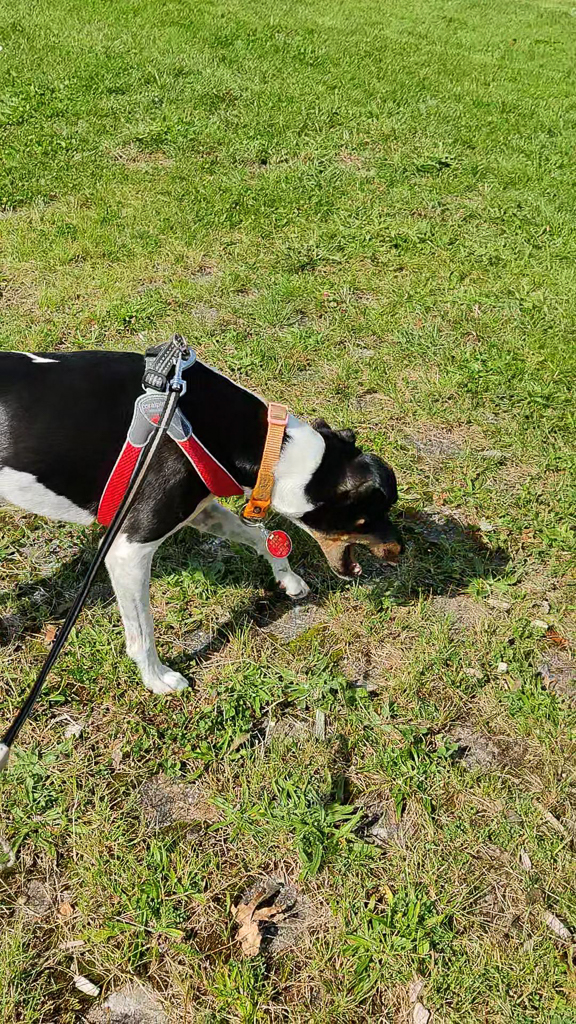Dog: (0, 315, 438, 719)
